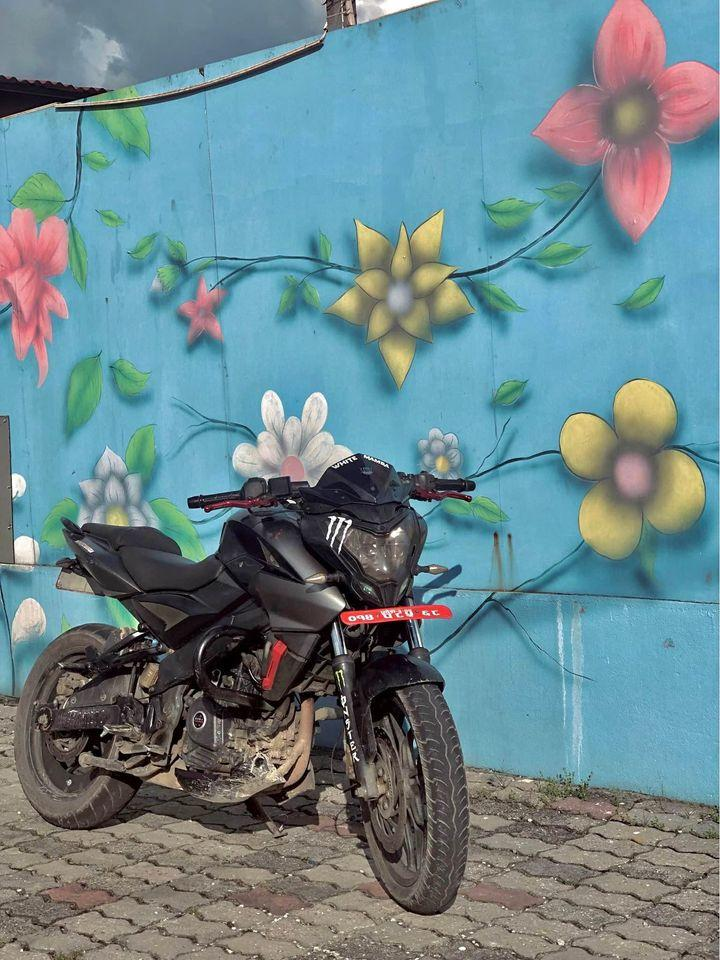bike: (0, 441, 481, 927)
